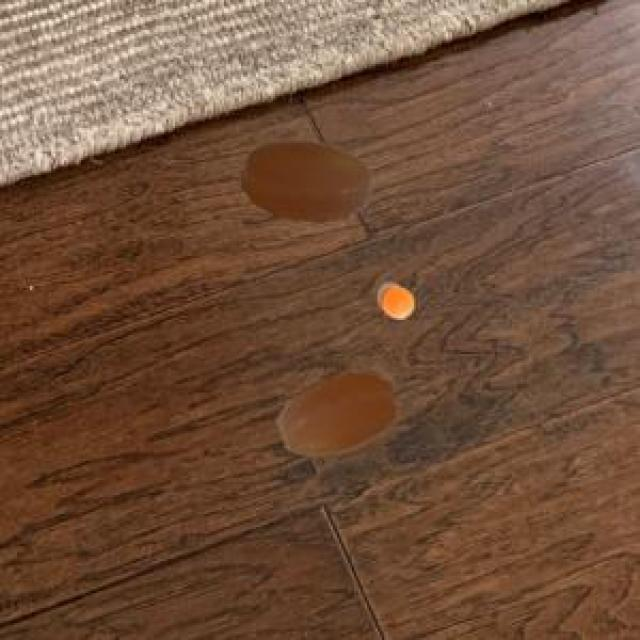Bactidol: (262, 359, 410, 473), (235, 129, 388, 238), (367, 272, 429, 328)
